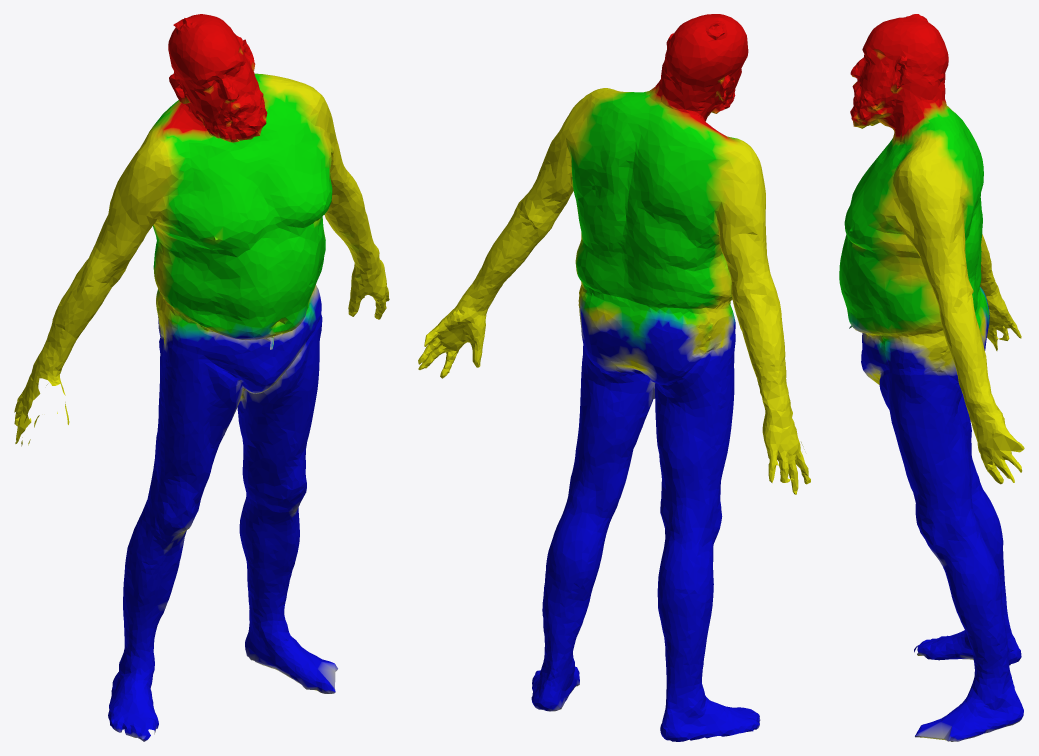
The picture shows the model from 3 angles, left to right: view 1: azimuth 30°, elevation 25°; view 2: azimuth 150°, elevation 25°; view 3: azimuth 270°, elevation 25°; orthographic projection. The views are drawn at different scales.
Visible parts, largest first — view 1: 50.obj; view 2: 50.obj; view 3: 50.obj.
Boxes of the visible parts, x1=… form: 50.obj: x1=14, y1=14, x2=389, y2=741; 50.obj: x1=418, y1=14, x2=810, y2=741; 50.obj: x1=839, y1=14, x2=1024, y2=741.
Size of the model in its own units: 1.02 by 1.79 by 0.4579.
